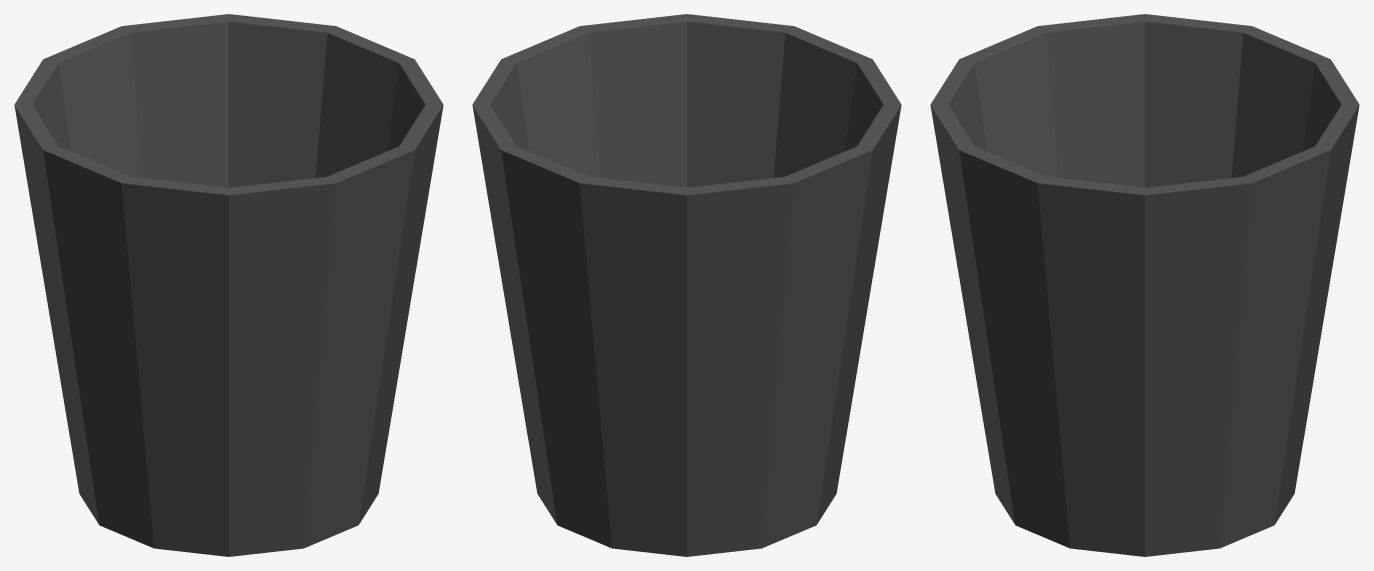
Rendered from Skraldespand.fbx.
3 renders of one model, left to right at view 1: azimuth 30°, elevation 25°; view 2: azimuth 150°, elevation 25°; view 3: azimuth 270°, elevation 25°, orthographic.
Parts seen in each view (by area): view 1: Cylinder.008; view 2: Cylinder.008; view 3: Cylinder.008.
Boxes of the visible parts, <box> form: Cylinder.008: <box>14,14,443,556</box>; Cylinder.008: <box>472,14,901,556</box>; Cylinder.008: <box>930,14,1359,556</box>.
Bounding box in the file's own units: 64 × 64 × 64.
